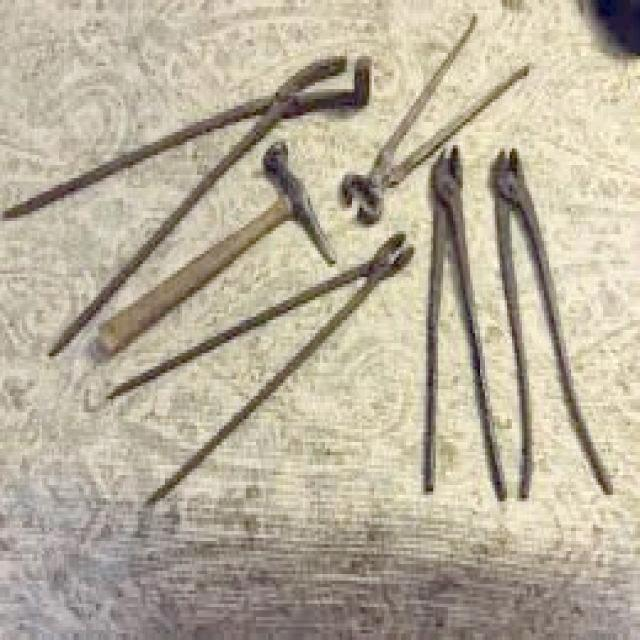hammer: (82, 128, 344, 382)
